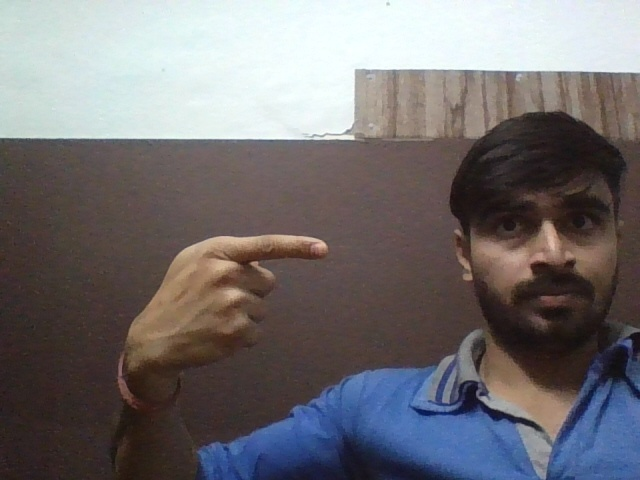G: (139, 236, 324, 363)
